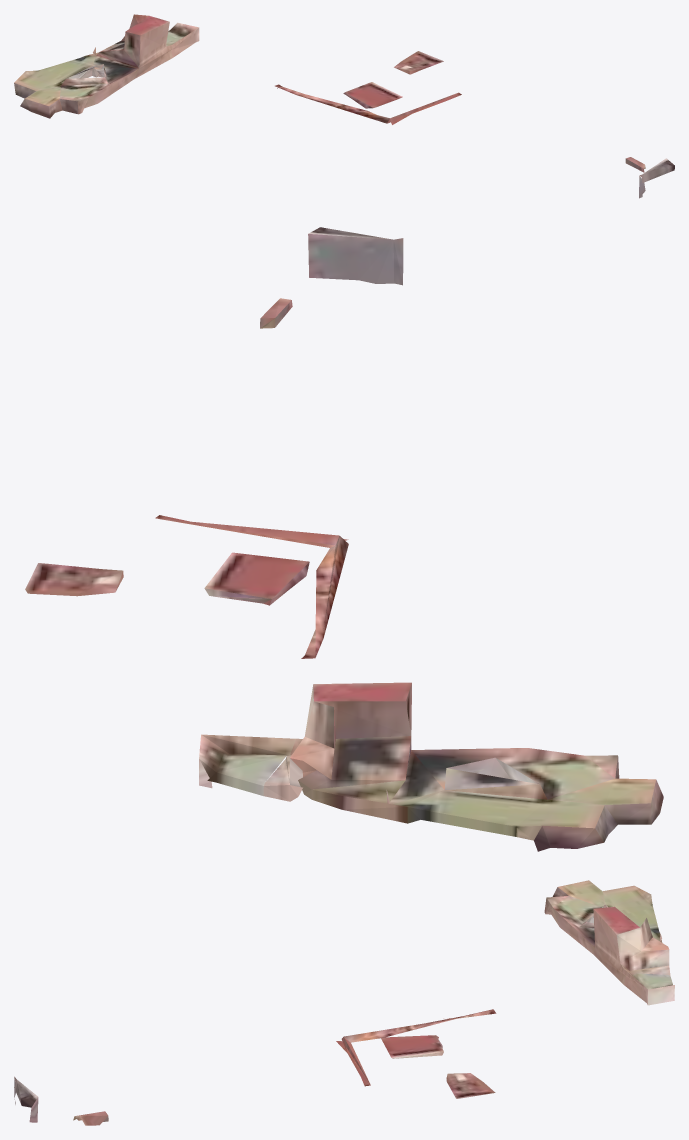
3 views of the same model, one above another, from view 1: azimuth 30°, elevation 25°; view 2: azimuth 150°, elevation 25°; view 3: azimuth 270°, elevation 25° (orthographic). The views are drawn at different scales.
Visible parts, largest first — view 1: Mesh_0; view 2: Mesh_0; view 3: Mesh_0.
Boxes of the visible parts, x1,y1,x2,y2 form: Mesh_0: (14, 14, 674, 198); Mesh_0: (25, 227, 663, 851); Mesh_0: (14, 880, 674, 1125).
Size of the model in its own units: 62.05 by 6.78 by 73.71.
Materials: 1 (1 with a texture image).
